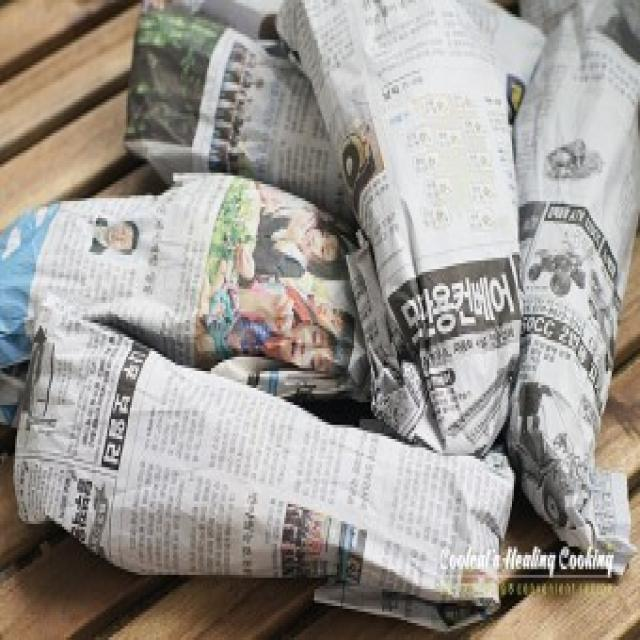Newspaper: (44, 300, 518, 587), (330, 0, 540, 418), (15, 199, 385, 406)
